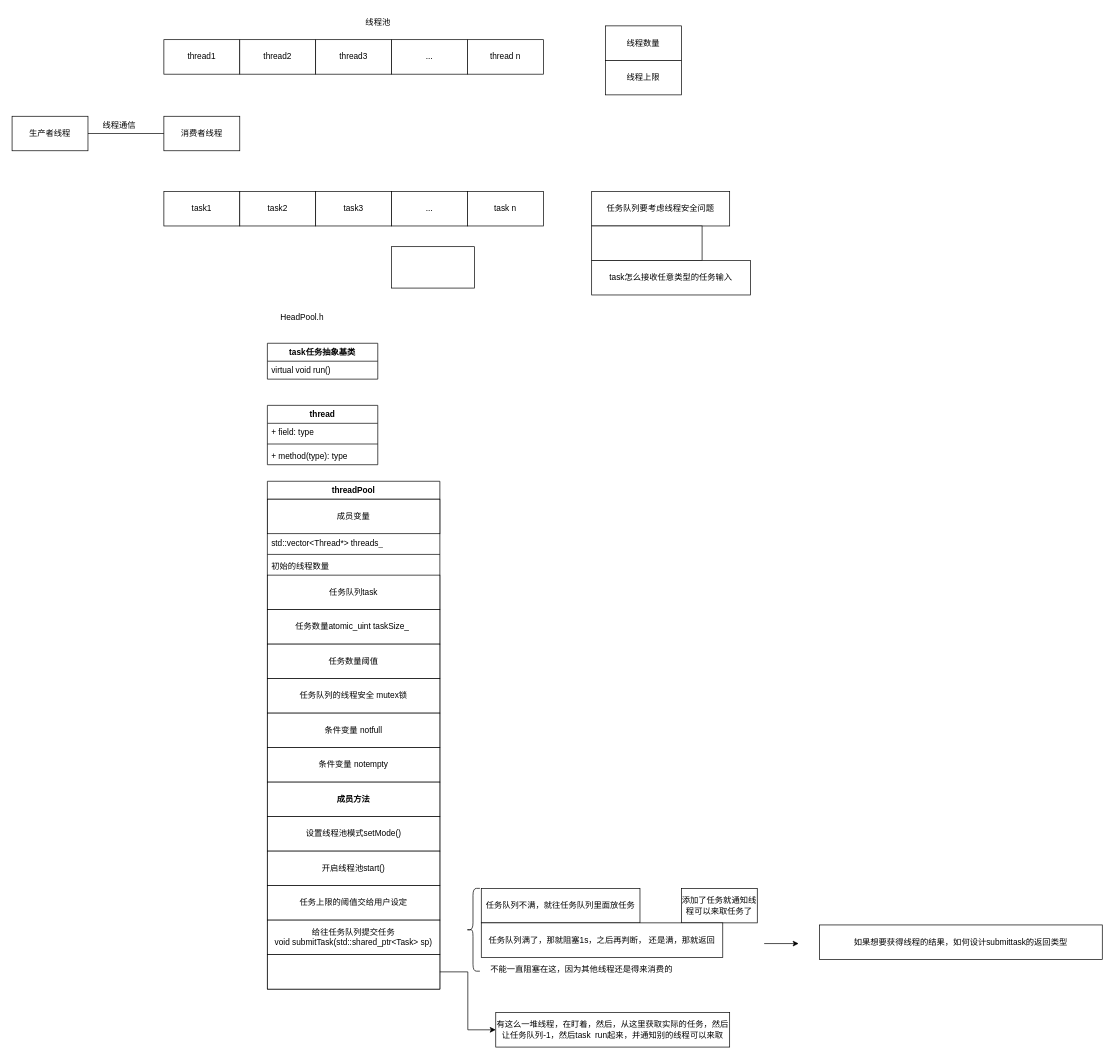
The diagram is 1114 pixels wide and 1059 high, and some of its shapes have lost their labels. Here are the shapes that lost their labels. From the top down, the centre of each, then its label:
point 646,242: 最多处理的任务数量
point 432,267: 不空则可以消费 不满则可以生产
point 353,971: threadfunc()要被绑定然后传给线程，而且要先传进去具体的task
